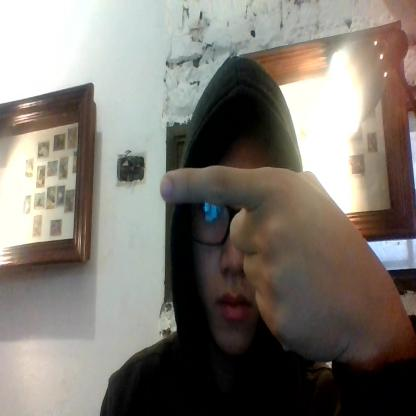right: (159, 160, 400, 364)
